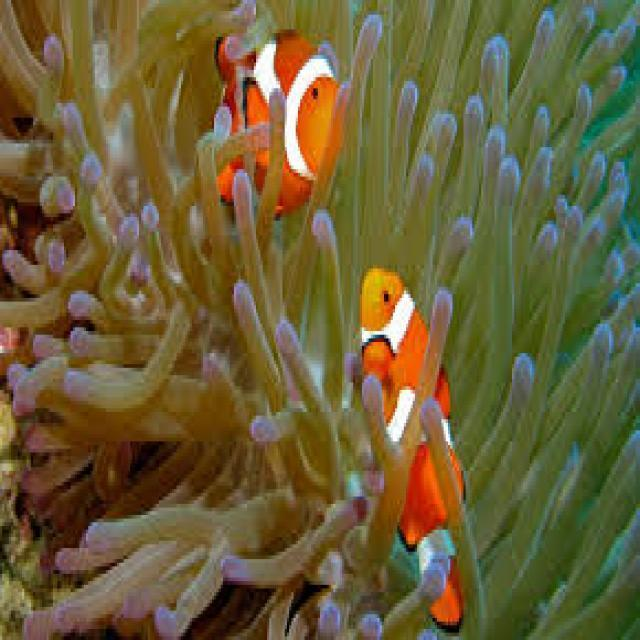ClownFish: (357, 260, 472, 630), (207, 23, 339, 228)
